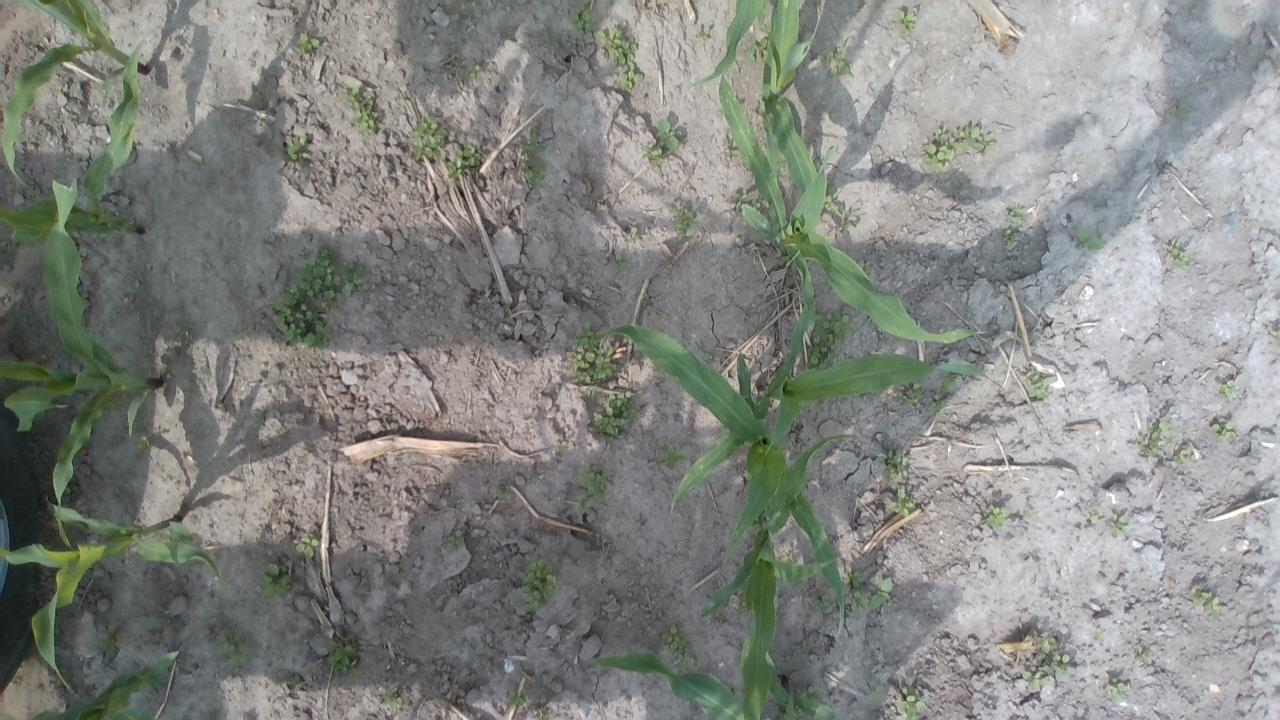Maize: (584, 314, 856, 636), (715, 68, 984, 343), (674, 301, 998, 503), (0, 176, 166, 552), (694, 432, 856, 720), (0, 498, 230, 700), (0, 37, 145, 245), (0, 0, 151, 187), (584, 651, 839, 720), (0, 648, 181, 720), (754, 0, 814, 196), (688, 0, 770, 85)
Weeds: (270, 244, 338, 352), (922, 124, 998, 172), (594, 24, 644, 94), (1018, 630, 1072, 693), (802, 310, 856, 370), (568, 323, 616, 386), (520, 554, 560, 614), (592, 390, 638, 439), (341, 84, 381, 138), (520, 126, 550, 190), (444, 140, 484, 188), (574, 460, 610, 513), (822, 178, 859, 229), (410, 114, 448, 161), (660, 622, 700, 666), (1137, 418, 1174, 459), (214, 628, 253, 666), (258, 562, 292, 602), (567, 0, 599, 38), (326, 638, 356, 676), (666, 206, 696, 243), (877, 448, 910, 481), (647, 443, 684, 472), (896, 685, 926, 720), (338, 262, 368, 296), (655, 118, 684, 152), (1192, 586, 1220, 620), (1024, 368, 1054, 398), (822, 46, 851, 76), (284, 135, 310, 167), (889, 487, 916, 517), (870, 576, 894, 609), (1100, 674, 1126, 704), (1210, 419, 1240, 444), (1077, 498, 1105, 524), (1076, 228, 1106, 252), (729, 193, 760, 215), (844, 590, 870, 616), (380, 685, 402, 715), (896, 380, 923, 404), (1170, 238, 1192, 266), (747, 38, 769, 66), (296, 534, 320, 559), (1110, 511, 1132, 538), (640, 143, 665, 166), (985, 504, 1011, 526), (445, 528, 468, 552), (897, 7, 919, 32), (99, 626, 118, 654), (842, 566, 864, 589), (296, 32, 321, 52), (506, 688, 528, 709), (939, 371, 961, 391), (1004, 204, 1024, 226), (812, 592, 831, 614), (1173, 446, 1194, 465), (1218, 379, 1240, 397), (530, 702, 551, 720), (614, 253, 632, 274), (928, 394, 947, 413), (278, 672, 303, 686), (135, 434, 152, 454), (869, 681, 885, 702), (1136, 644, 1152, 664), (772, 251, 791, 266), (1174, 100, 1194, 114), (694, 24, 709, 42), (1000, 228, 1016, 244), (466, 62, 482, 78), (250, 410, 264, 427), (1092, 627, 1107, 642), (624, 231, 640, 245), (640, 292, 652, 310), (734, 599, 749, 613), (554, 440, 568, 454), (862, 260, 874, 276), (802, 686, 816, 698), (756, 22, 770, 34), (497, 484, 511, 496), (868, 389, 879, 399), (66, 114, 78, 122), (1274, 329, 1280, 345), (626, 0, 636, 5)
